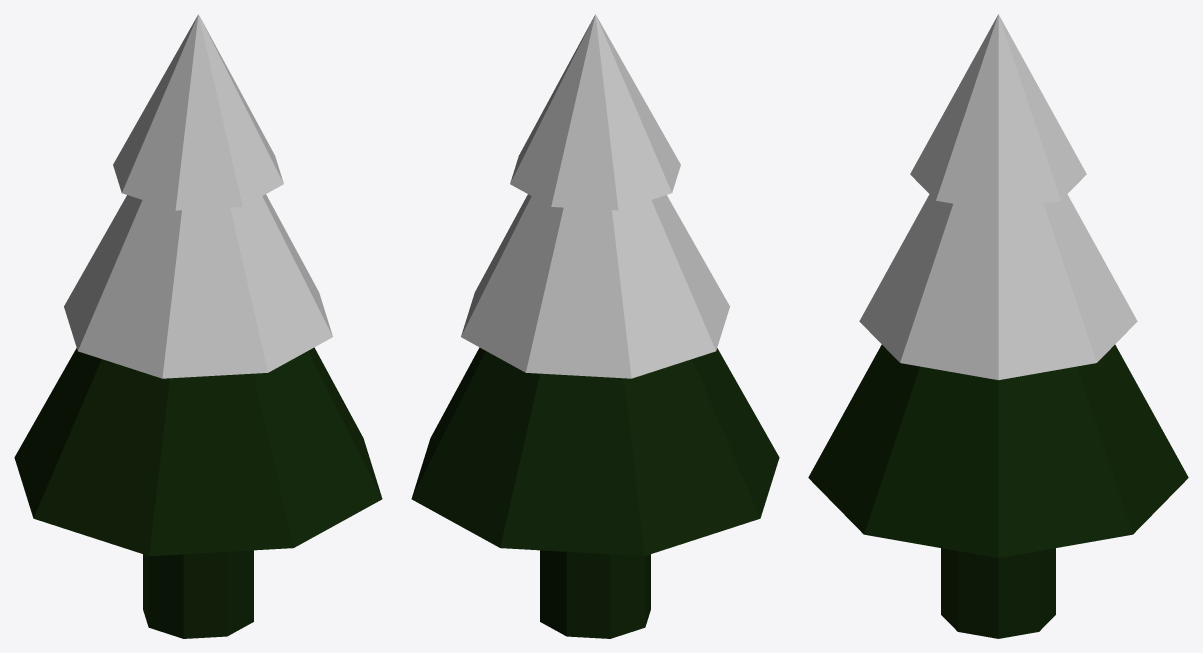
Rendered from arbre2_1.obj.
3 views of the same model, side by side, from view 1: azimuth 30°, elevation 25°; view 2: azimuth 150°, elevation 25°; view 3: azimuth 270°, elevation 25° (orthographic).
Bounding box in the file's own units: 4.17 × 7.27 × 4.17.
